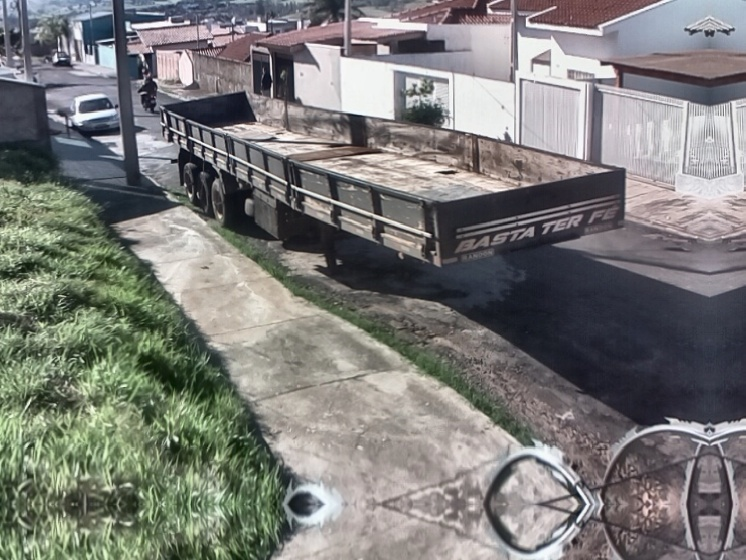person: (139, 72, 158, 98), (260, 65, 274, 99)
